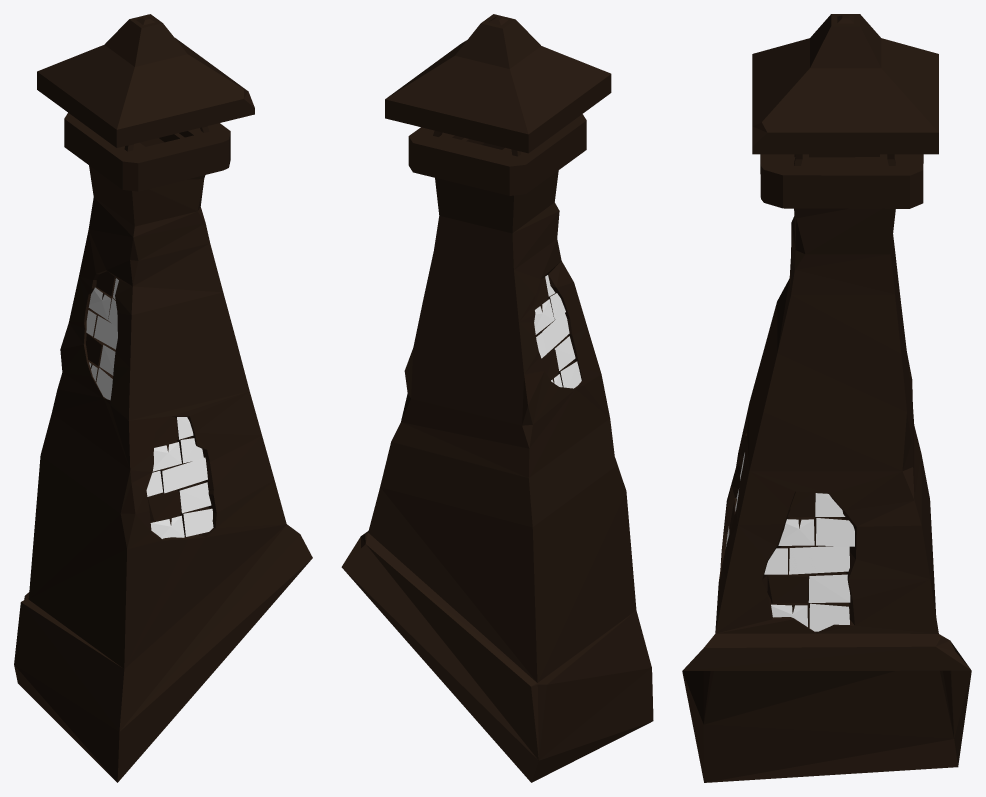
Rendered from SFFA_Building_Chemney.fbx.
3 views of the same model, side by side, from view 1: azimuth 30°, elevation 25°; view 2: azimuth 150°, elevation 25°; view 3: azimuth 270°, elevation 25° (orthographic). The views are drawn at different scales.
Parts seen in each view (by area): view 1: SFFA_Building_Chemney; view 2: SFFA_Building_Chemney; view 3: SFFA_Building_Chemney.
Part boxes in pixels (x1,y1,x2,y2): SFFA_Building_Chemney: (14, 14, 312, 782); SFFA_Building_Chemney: (341, 14, 653, 782); SFFA_Building_Chemney: (682, 14, 971, 782).
Bounding box in the file's own units: 155 × 557 × 179.
